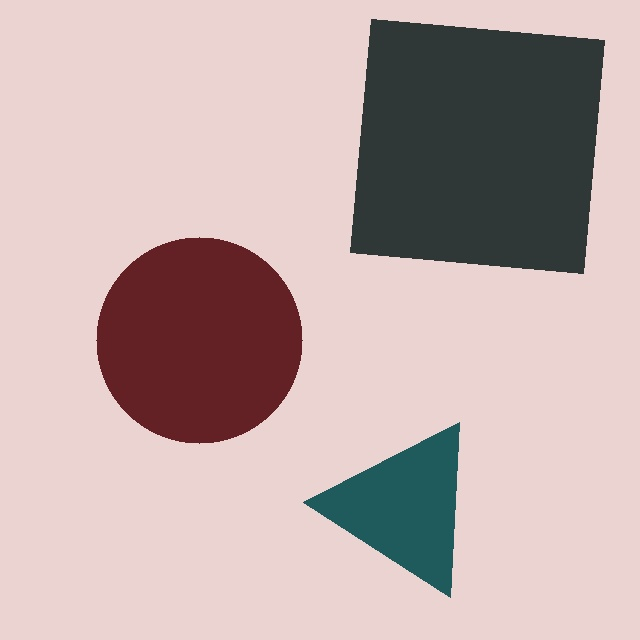circle: (95, 237, 302, 443)
square: (350, 18, 605, 274)
triangle: (303, 422, 460, 598)
